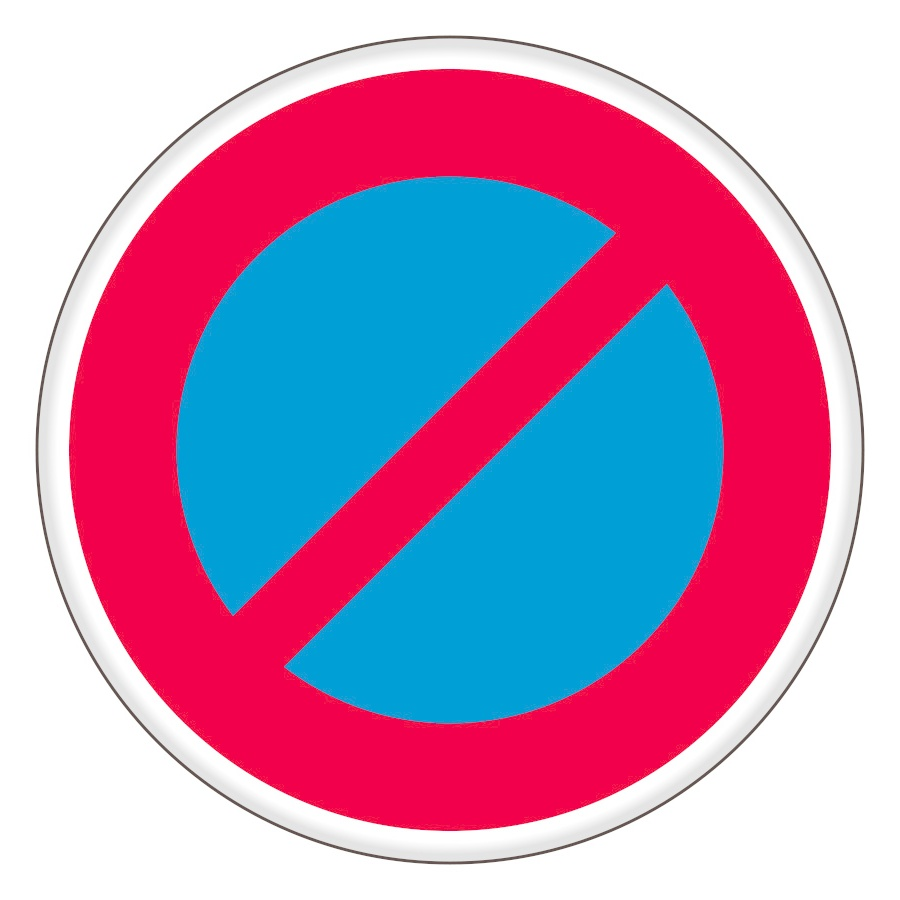Prohibition_sign: (18, 18, 884, 872)
